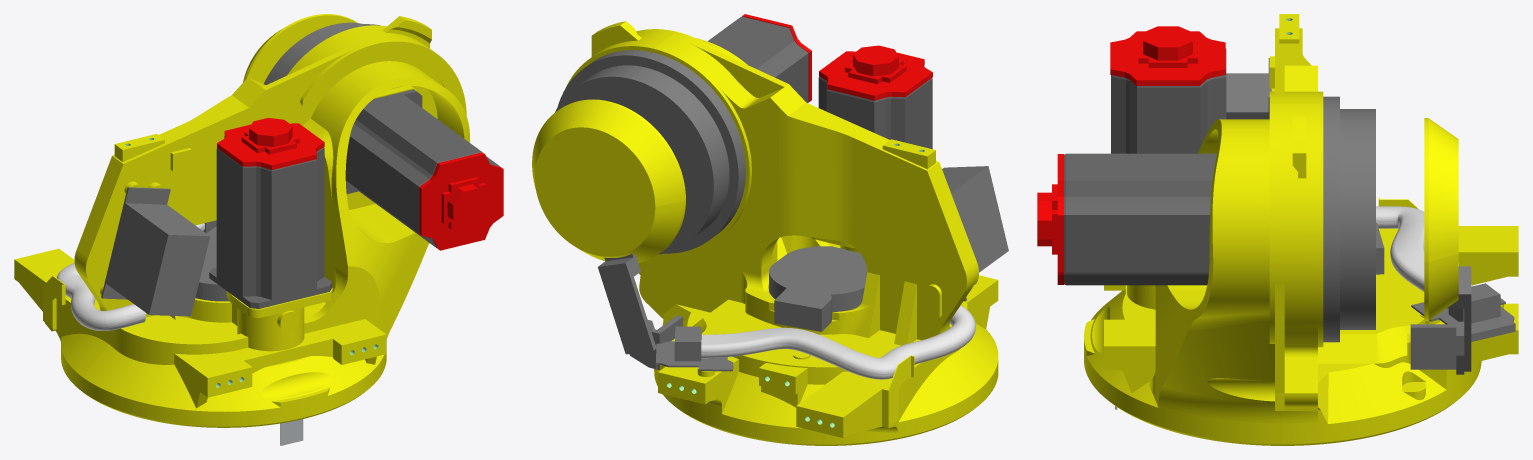
3 renders of one model, left to right at view 1: azimuth 30°, elevation 25°; view 2: azimuth 150°, elevation 25°; view 3: azimuth 270°, elevation 25°, orthographic. The views are drawn at different scales.
Parts seen in each view (by area): view 1: Mesh_0; view 2: Mesh_0; view 3: Mesh_0.
Part boxes in pixels (left/top/right/bottom): Mesh_0: left=14, top=14, right=503, bottom=445; Mesh_0: left=532, top=14, right=1008, bottom=445; Mesh_0: left=1037, top=14, right=1518, bottom=445.
Size of the model in its own units: 0.8053 by 0.7265 by 0.6599.
